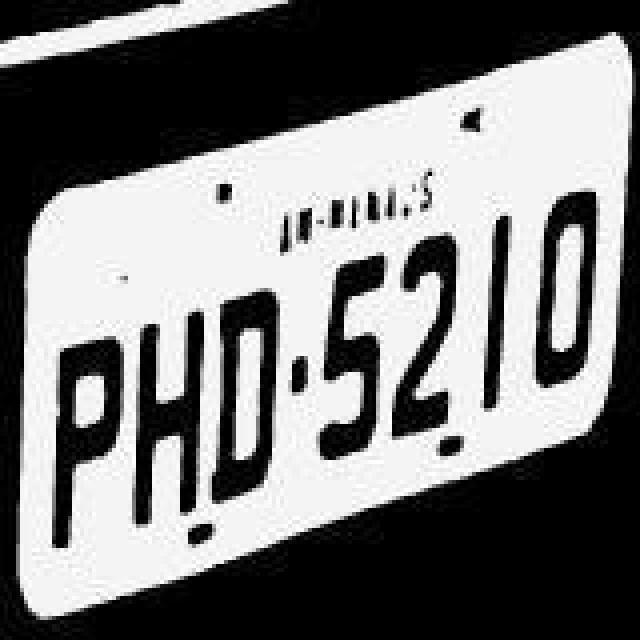1: (472, 190, 512, 434)
2: (386, 216, 462, 440)
5: (320, 240, 392, 464)
D: (210, 264, 286, 504)
H: (130, 274, 206, 518)
O: (528, 172, 608, 388)
P: (48, 294, 128, 554)
